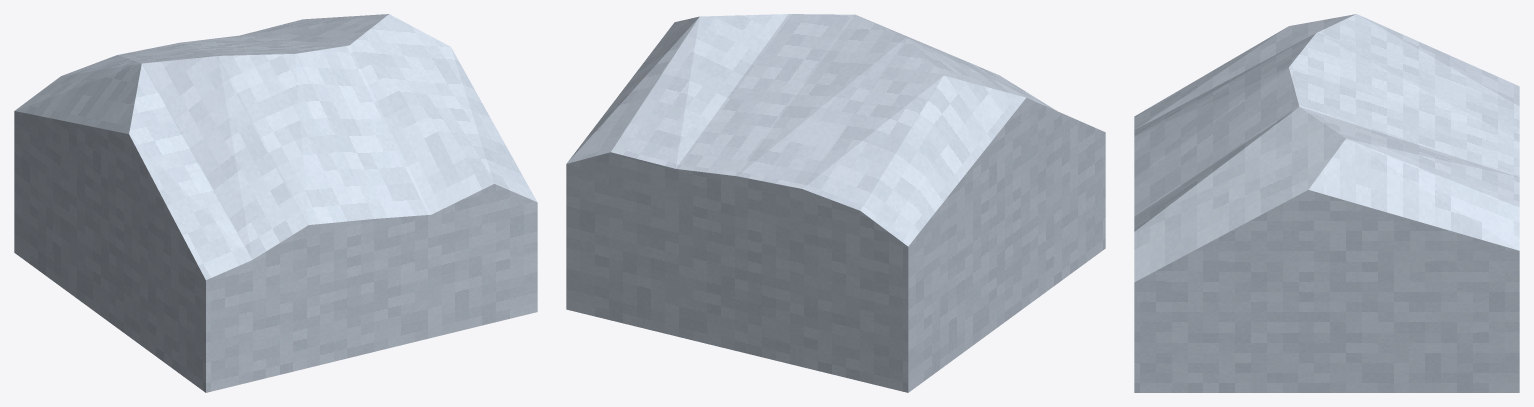
Rendered from snow_post_cap.glb.
3 views of the same model, side by side, from view 1: azimuth 30°, elevation 25°; view 2: azimuth 150°, elevation 25°; view 3: azimuth 270°, elevation 25° (orthographic). The views are drawn at different scales.
Visible parts, largest first — view 1: snow_post_cap; view 2: snow_post_cap; view 3: snow_post_cap.
Boxes of the visible parts, left/top/right/bottom form: snow_post_cap: left=14, top=14, right=537, bottom=392; snow_post_cap: left=566, top=14, right=1105, bottom=392; snow_post_cap: left=1134, top=14, right=1519, bottom=392.
Bounding box in the file's own units: 0.12 × 0.085 × 0.12.
1 material, 1 textured.
